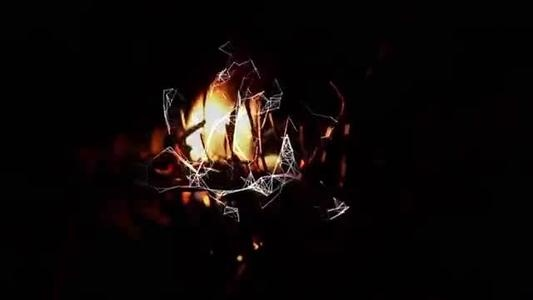fire: (184, 79, 265, 168)
